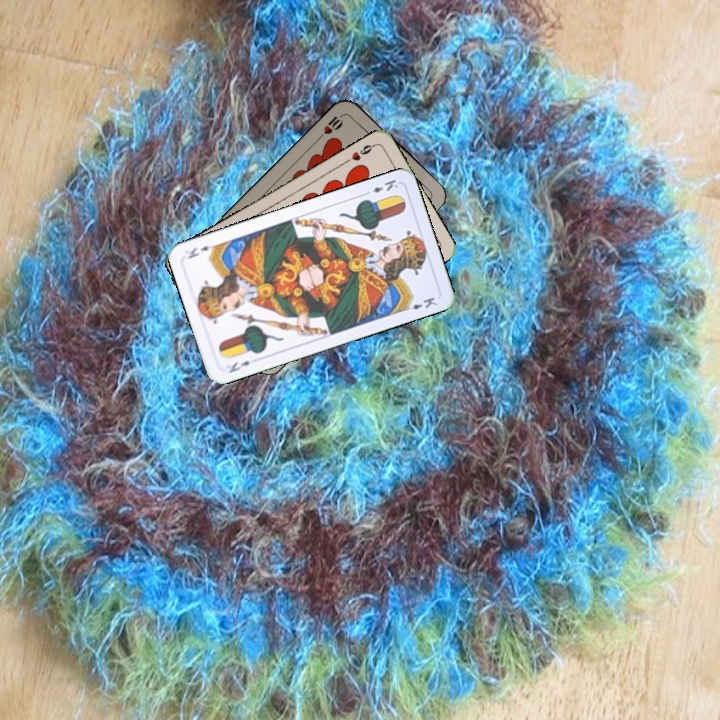EK: (360, 175, 401, 198), (225, 357, 253, 376)
H10: (315, 110, 347, 142)
H9: (341, 140, 378, 166)
